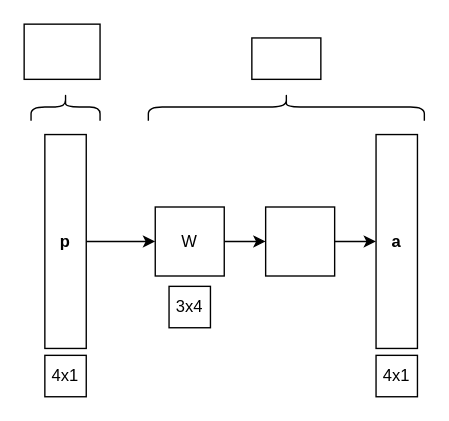
This 449x421 diagram has some shape labels left out. Each missing label, with the centre of its shape:
"Couche d'entrée" goes at point 61,51.
"Couche Linéaire" goes at point 285,58.
"lin(x)" goes at point 299,241.
